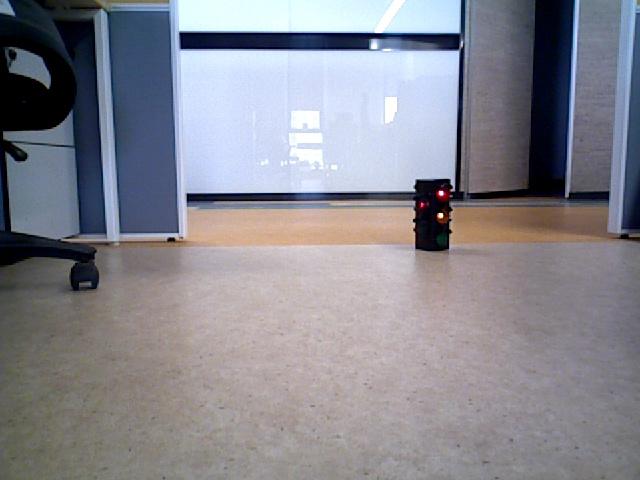red: (417, 178, 449, 247)
